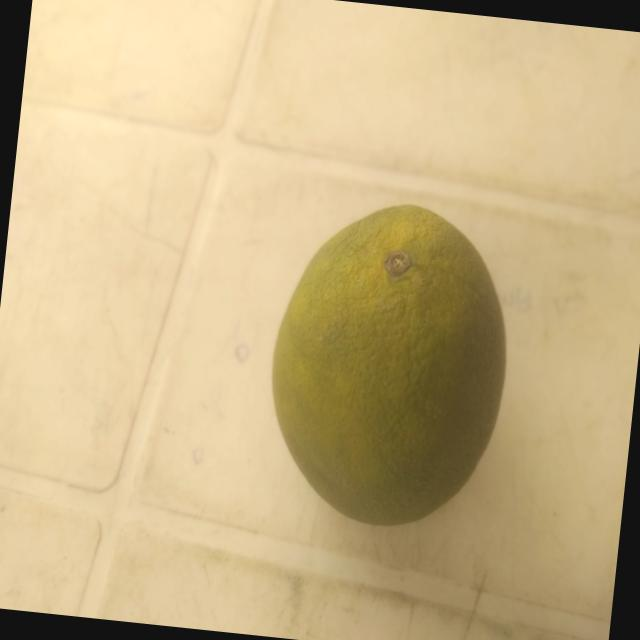Unripe: (253, 174, 538, 561)
